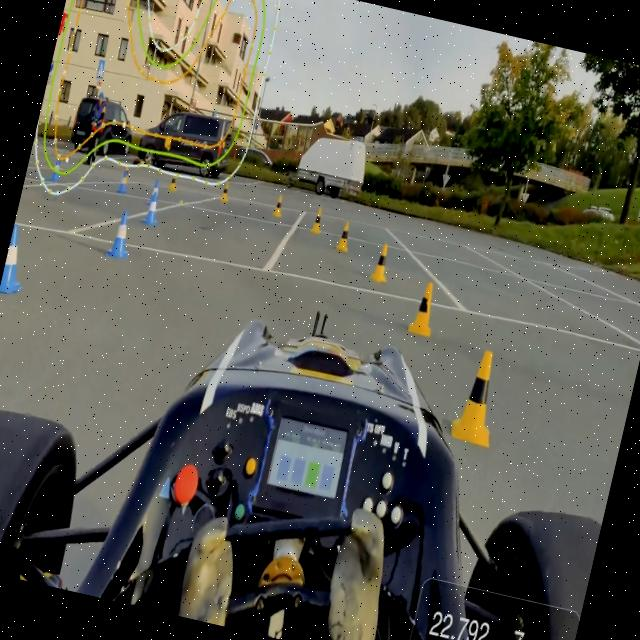blue_cone: (0, 221, 35, 297), (104, 208, 138, 260), (142, 192, 162, 227), (115, 164, 134, 197), (48, 154, 64, 186), (147, 176, 162, 202)
yellow_cone: (450, 344, 510, 448), (405, 278, 444, 340), (368, 240, 394, 286), (336, 218, 356, 252), (310, 206, 326, 237), (273, 195, 284, 218), (220, 182, 230, 204), (170, 170, 180, 192)
